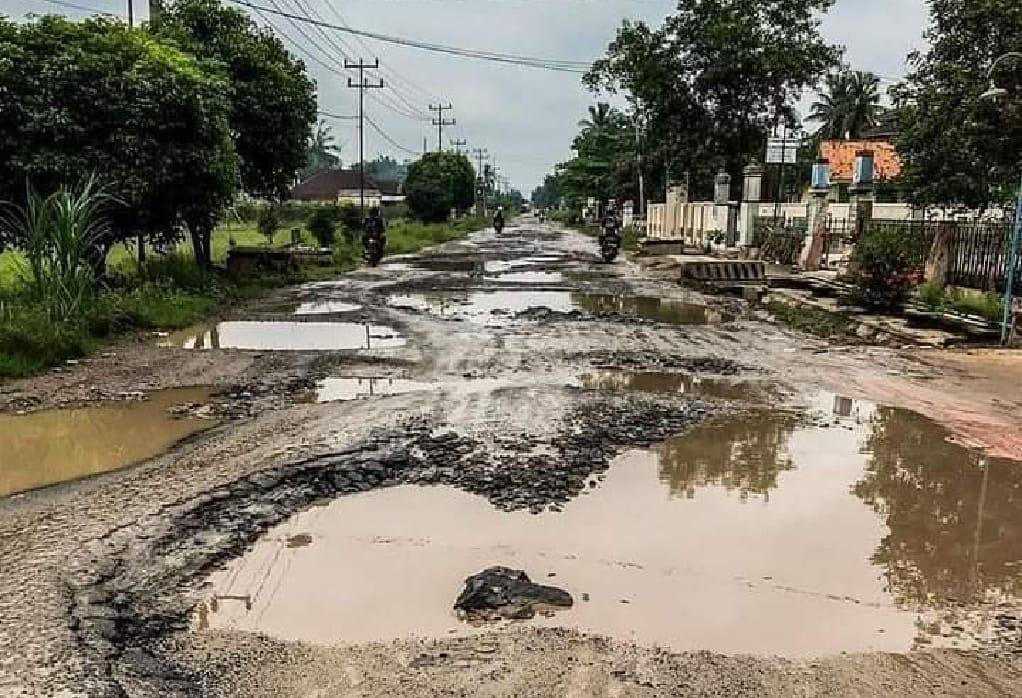Pothole: (155, 399, 1022, 681), (165, 289, 788, 418), (0, 361, 236, 507), (349, 209, 695, 296)
